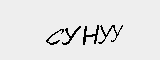Д: (119, 20, 144, 45)
И: (17, 19, 37, 37)
Л: (39, 19, 60, 36)
О: (91, 21, 117, 41)
Т: (59, 19, 75, 35)
Ә: (76, 19, 91, 38)
